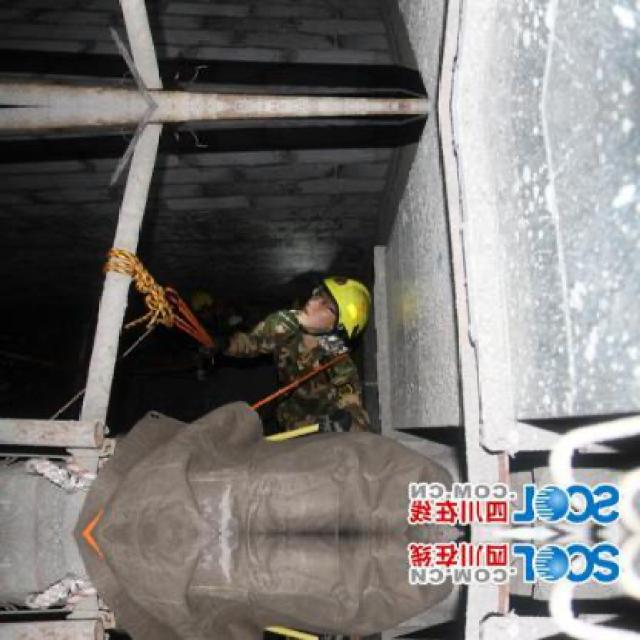con casco: (242, 257, 393, 369)
